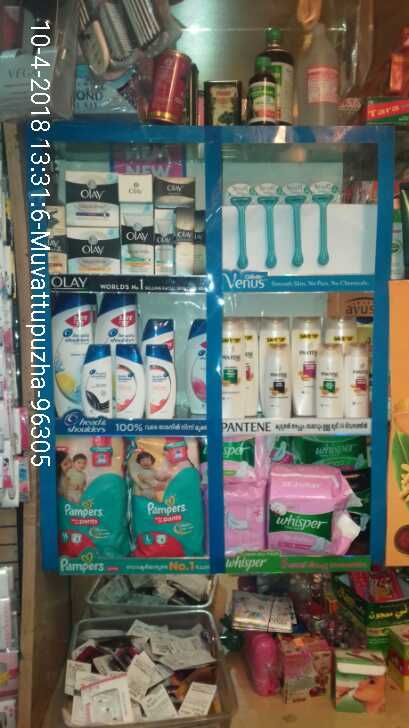venus: (230, 185, 257, 271), (312, 184, 337, 267), (286, 184, 310, 267), (262, 183, 283, 268)
